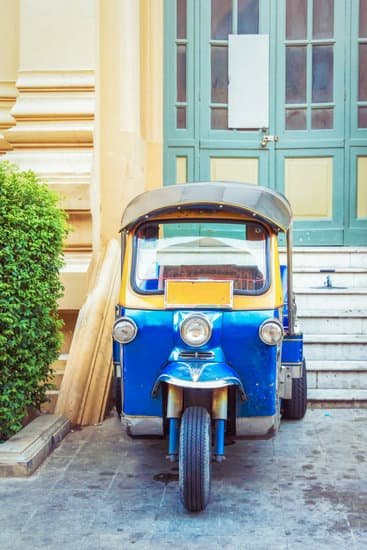threewheel: (111, 179, 305, 514)
